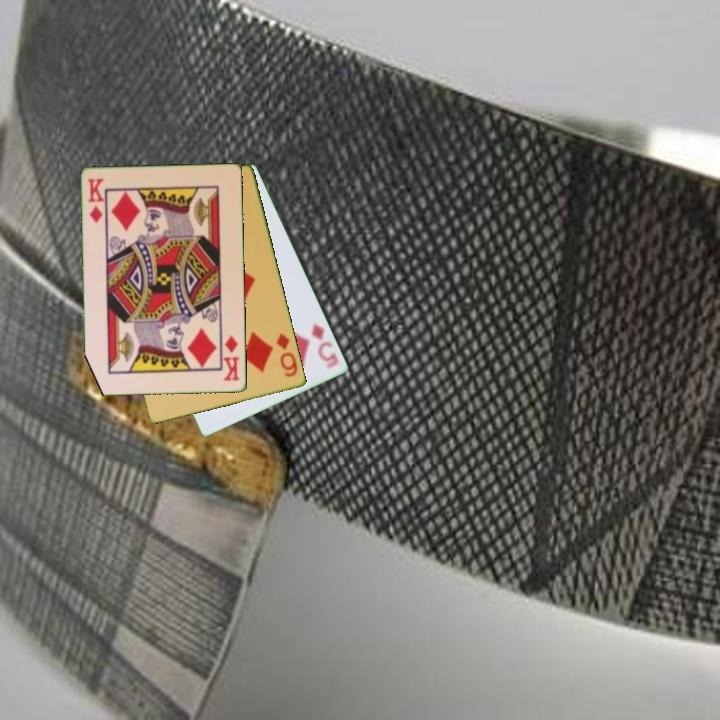5d: (309, 320, 342, 372)
6d: (273, 329, 301, 380)
Kd: (220, 332, 243, 384), (85, 175, 107, 227)
